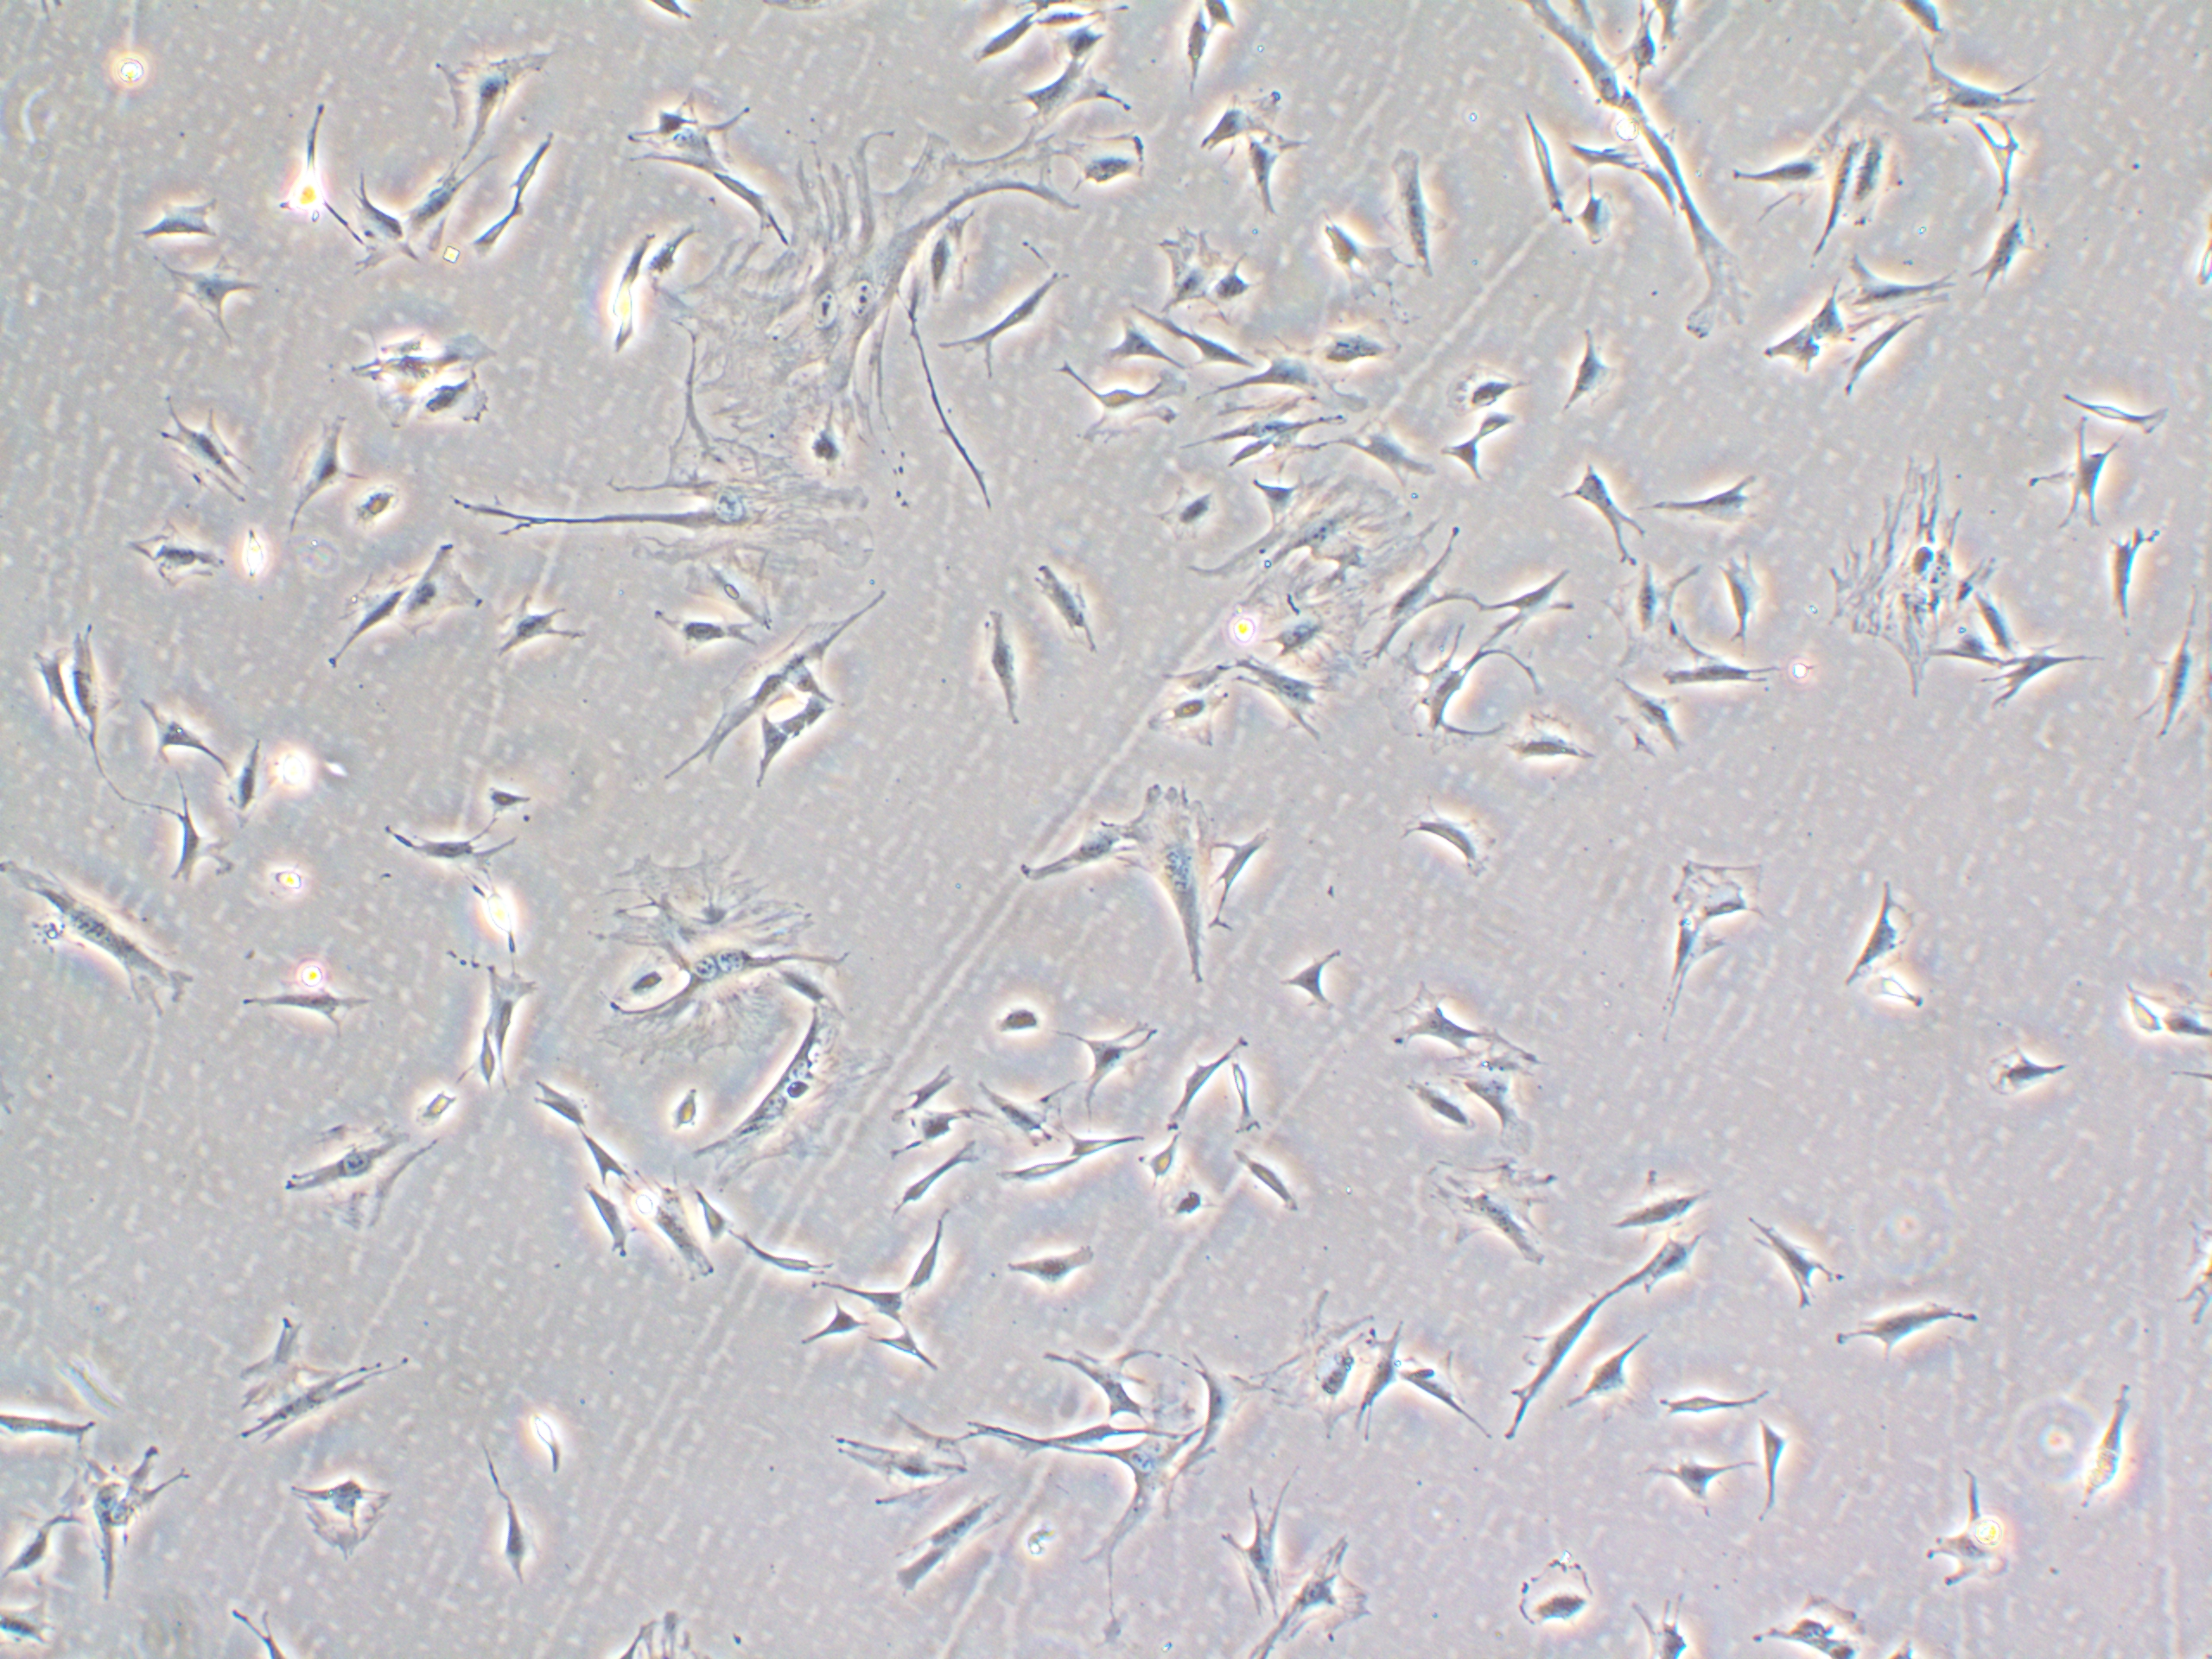Etc: (460, 1032, 505, 1094)
polygonal: (1076, 1394, 1184, 1570), (1498, 1288, 1615, 1450), (2047, 1370, 2153, 1540), (927, 261, 1078, 378), (651, 664, 789, 791), (239, 1361, 427, 1452), (1388, 622, 1505, 767), (1374, 526, 1498, 655), (1824, 1281, 1975, 1385), (820, 1401, 970, 1506), (143, 394, 265, 521), (275, 1462, 421, 1567), (883, 1490, 1015, 1601), (2128, 584, 2212, 760), (1371, 143, 1472, 284), (958, 603, 1052, 749), (1512, 0, 1632, 113), (1738, 1194, 1844, 1317), (219, 960, 380, 1042), (1029, 1333, 1163, 1431), (1211, 1483, 1303, 1622), (996, 807, 1141, 894), (1381, 791, 1510, 889), (1738, 110, 1836, 235), (1898, 51, 2038, 138), (758, 589, 885, 683), (113, 676, 223, 782), (1594, 563, 1705, 667), (1022, 559, 1122, 676), (1984, 636, 2106, 730), (364, 809, 512, 885), (1561, 1316, 1663, 1425), (1656, 849, 1791, 932), (1176, 1340, 1261, 1469), (113, 519, 230, 613), (1834, 877, 1930, 990), (1648, 1368, 1789, 1445), (319, 565, 411, 681), (1554, 457, 1653, 565), (1000, 58, 1136, 136), (1653, 913, 1743, 1030), (1230, 660, 1353, 746), (1480, 545, 1580, 650), (2083, 525, 2163, 648), (152, 251, 251, 350), (162, 781, 239, 908), (881, 1140, 989, 1229), (1646, 472, 1780, 544), (1597, 1169, 1728, 1243), (1634, 1452, 1764, 1525), (1399, 1349, 1487, 1450), (1317, 207, 1406, 308), (401, 159, 488, 261), (1209, 814, 1282, 936), (284, 403, 366, 509), (75, 612, 124, 789), (967, 1080, 1083, 1154), (1980, 1030, 2087, 1110), (1498, 708, 1611, 782), (1559, 322, 1649, 415), (1158, 1032, 1247, 1126), (395, 540, 477, 641), (1050, 134, 1151, 216), (1602, 671, 1693, 762), (474, 598, 587, 669), (1834, 261, 1952, 329), (1148, 214, 1228, 314), (1183, 75, 1285, 152), (1075, 1009, 1157, 1105), (1602, 1230, 1719, 1297), (1353, 415, 1447, 497), (1271, 941, 1352, 1035), (993, 1237, 1111, 1300), (1353, 1328, 1423, 1434), (413, 373, 507, 451), (1651, 645, 1801, 694), (17, 634, 82, 746), (796, 1277, 925, 1331), (1965, 207, 2047, 291), (1230, 120, 1296, 223), (1080, 308, 1181, 375), (1303, 310, 1400, 378), (759, 1307, 859, 1371), (1228, 1150, 1315, 1223), (493, 1478, 554, 1579), (1160, 308, 1244, 382), (1752, 1415, 1806, 1528), (644, 605, 756, 659), (1742, 314, 1827, 383), (1629, 143, 1693, 230), (132, 188, 228, 246), (577, 1182, 644, 1260), (1716, 549, 1768, 650), (1437, 357, 1524, 416), (902, 1199, 951, 1300), (523, 1066, 594, 1134), (573, 1122, 639, 1194), (1804, 265, 1860, 345), (874, 1324, 956, 1375), (469, 774, 552, 823), (679, 1187, 740, 1253), (745, 711, 787, 800), (1439, 434, 1501, 493), (1472, 404, 1526, 446)
small-round: (1860, 955, 1944, 1035), (261, 727, 331, 819), (223, 512, 298, 598), (1151, 476, 1224, 542), (327, 474, 406, 533), (2109, 969, 2161, 1049), (253, 849, 312, 915), (523, 1398, 573, 1471), (404, 1079, 460, 1140), (665, 1082, 719, 1143), (1130, 1134, 1181, 1192)
spread: (679, 120, 1052, 481), (510, 390, 878, 619), (578, 829, 850, 1082), (1822, 439, 1993, 714), (686, 986, 900, 1197), (1205, 467, 1433, 638), (1392, 1138, 1578, 1267), (1214, 1528, 1386, 1659), (1122, 775, 1224, 990), (1221, 568, 1383, 694), (1249, 1295, 1386, 1434), (442, 17, 561, 171), (1813, 70, 1909, 254), (1430, 1026, 1566, 1154)
